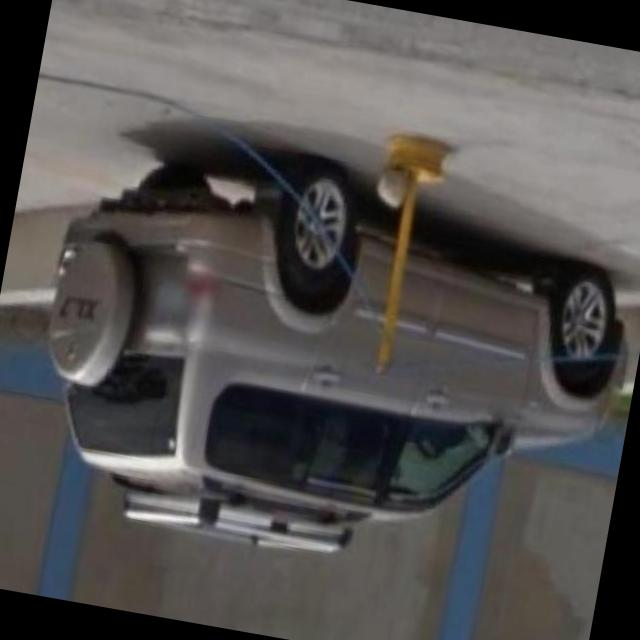car: (7, 110, 640, 592)
